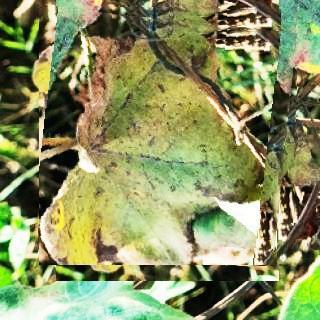leaf spot: (39, 6, 297, 265)
